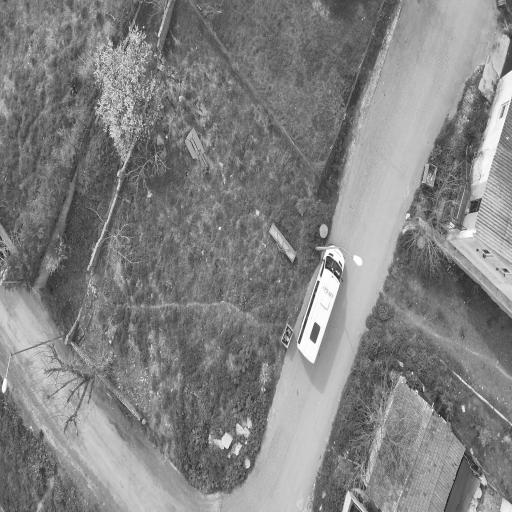car: (297, 246, 343, 362)
